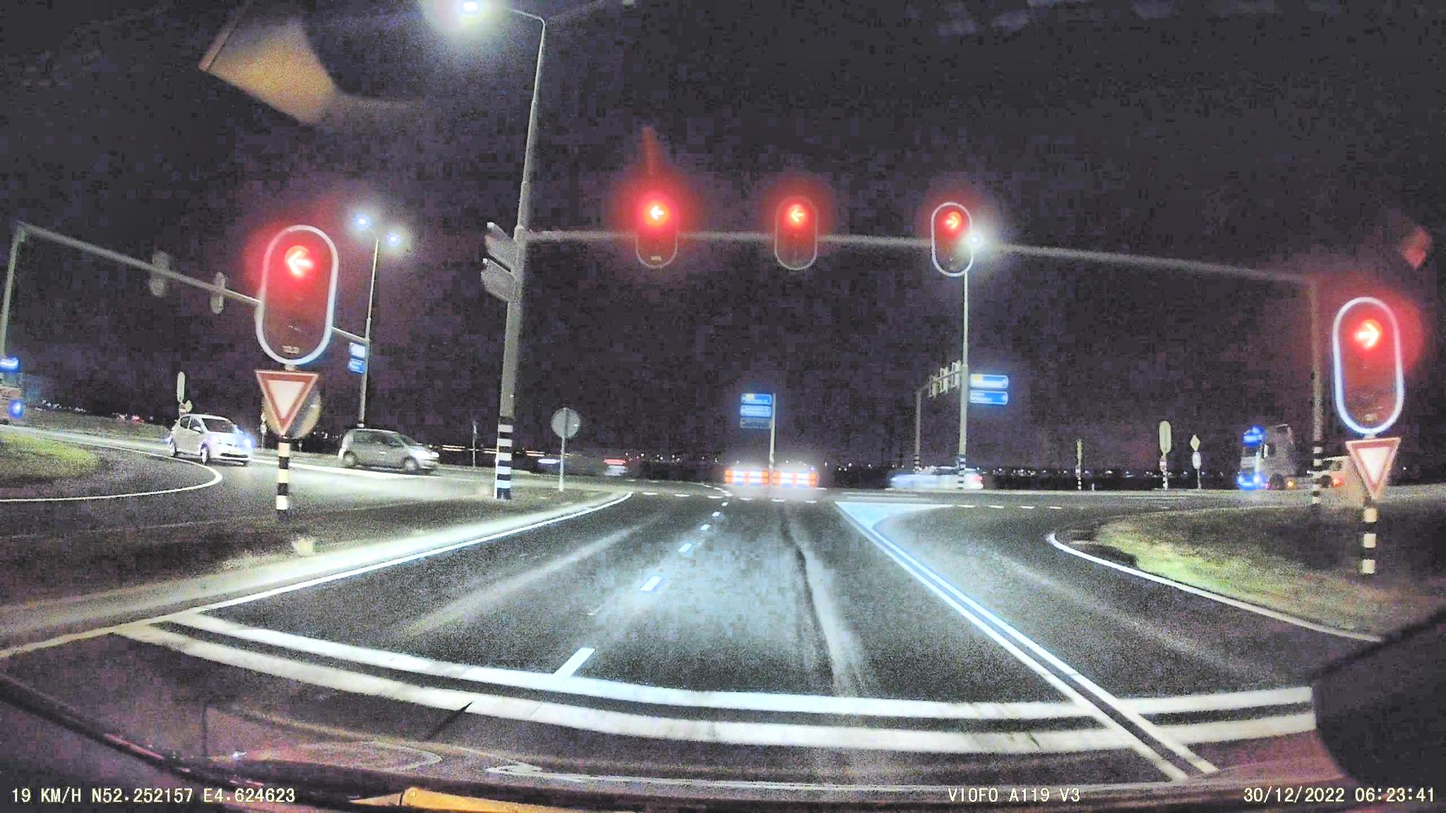Roads: (93, 487, 1379, 810)
